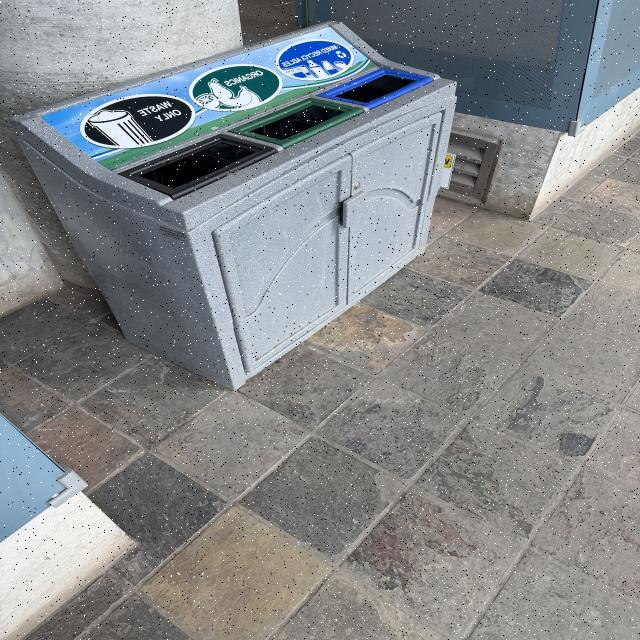Dustbin: (13, 21, 468, 391)
